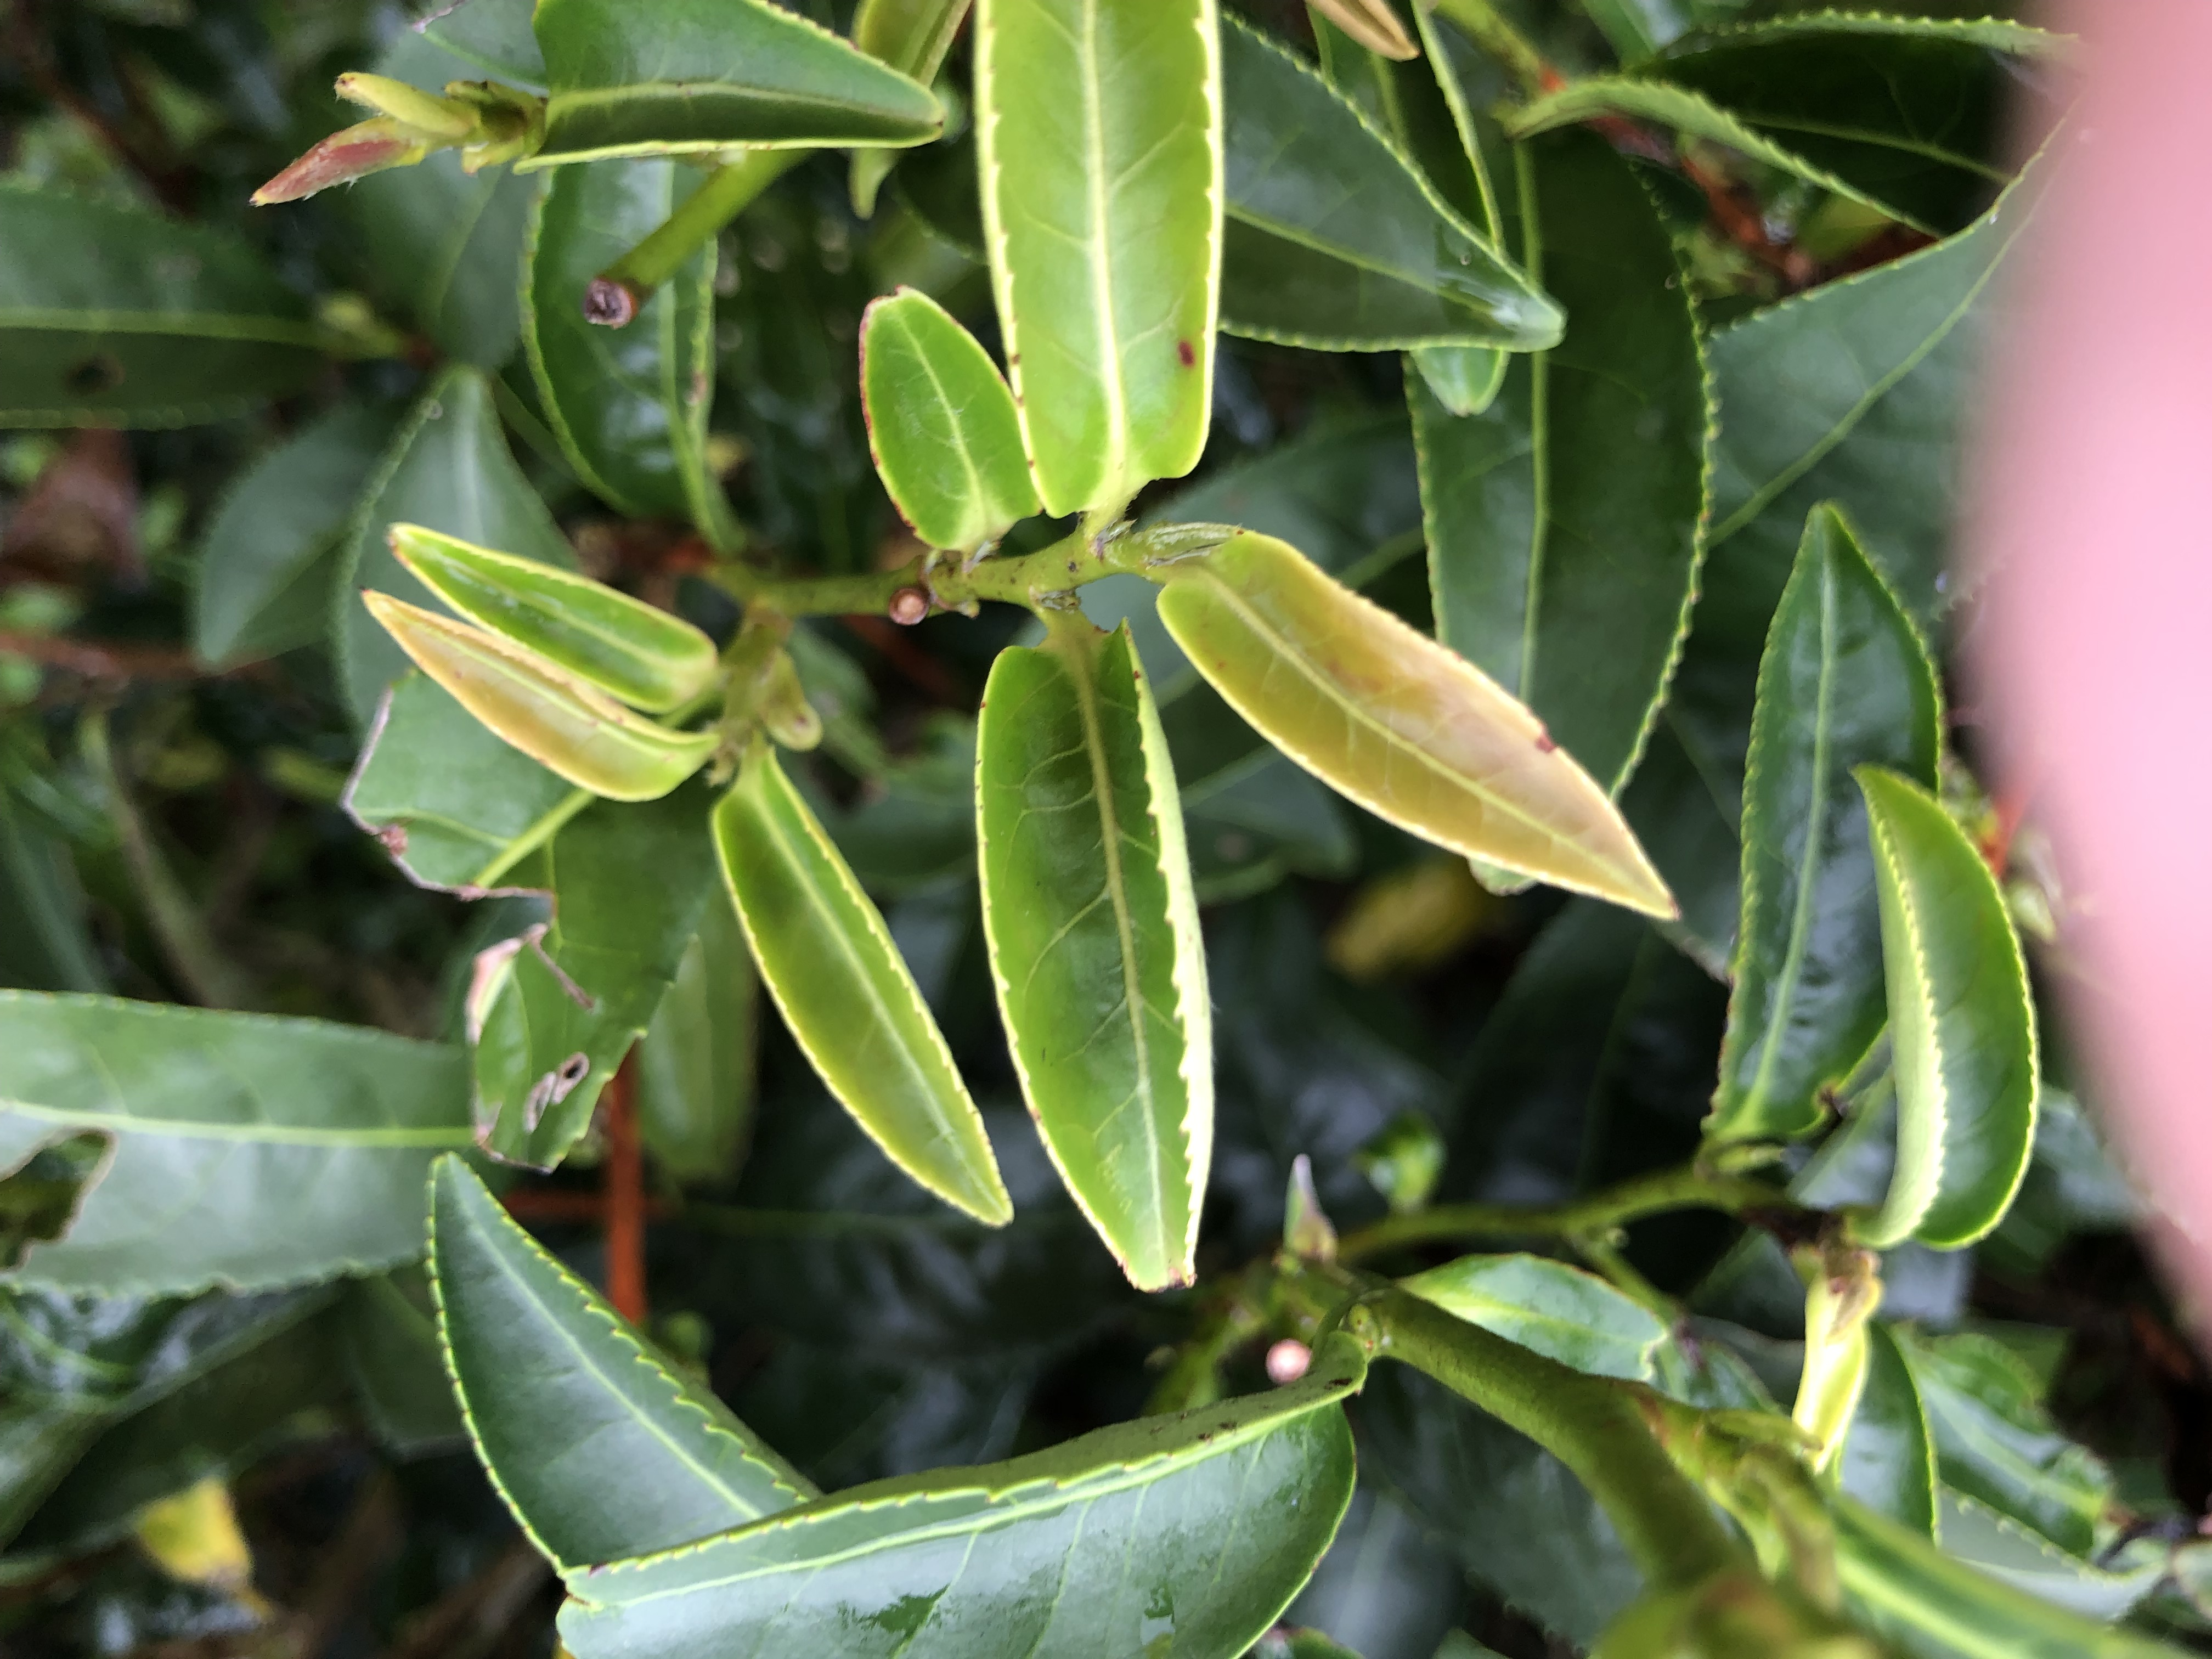formosa: (1130, 518, 1689, 918), (359, 603, 702, 802)
other: (582, 230, 686, 326)
